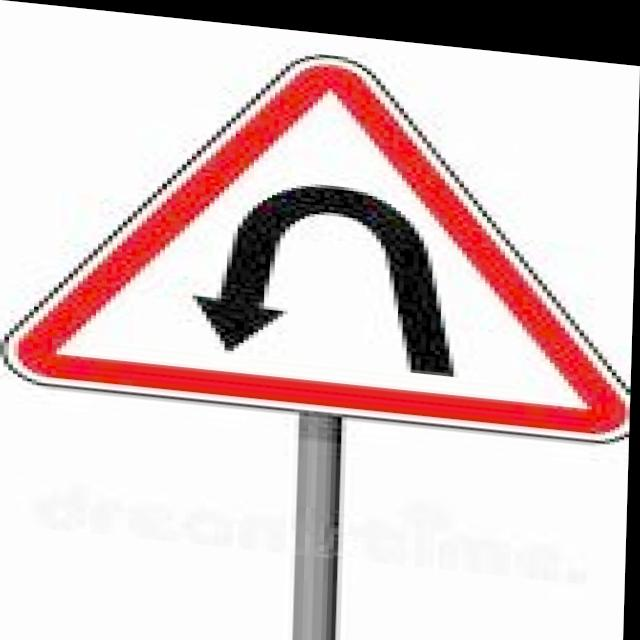LEFT_HAIR_PIN_BEND: (0, 22, 639, 433)
